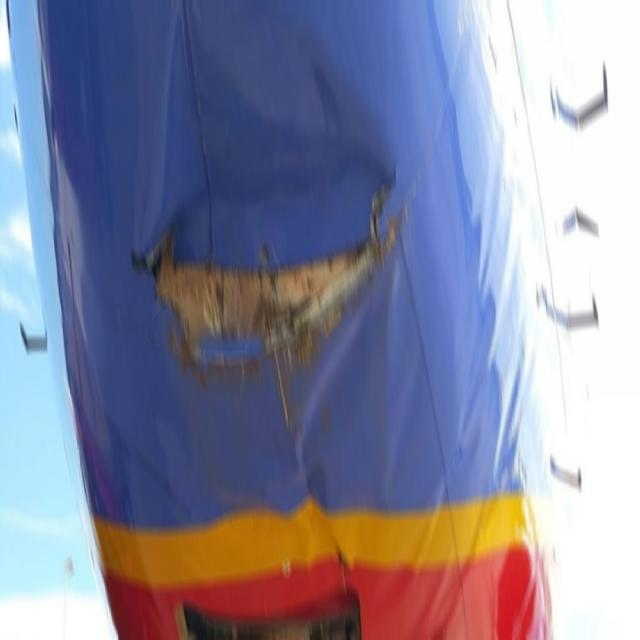crack: (136, 162, 409, 380)
